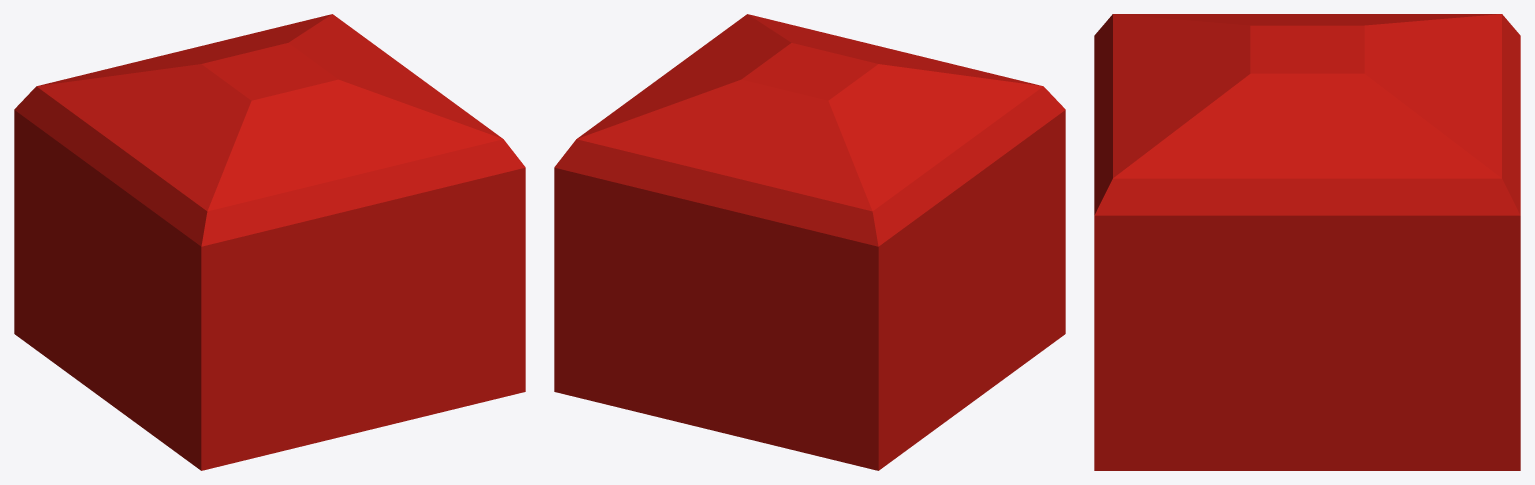
File: scene_1_room.obj
The picture shows the model from 3 angles, left to right: view 1: azimuth 30°, elevation 25°; view 2: azimuth 150°, elevation 25°; view 3: azimuth 270°, elevation 25°; orthographic projection. The views are drawn at different scales.
Parts seen in each view (by area): view 1: Cube; view 2: Cube; view 3: Cube.
Part boxes in pixels (bbox=[...]): Cube: bbox=[14, 14, 525, 470]; Cube: bbox=[554, 14, 1065, 470]; Cube: bbox=[1094, 14, 1520, 470].
Bounding box in the file's own units: 10 × 8.57 × 10.
